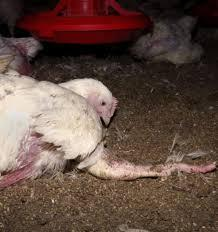AbNormal: (0, 30, 218, 208)
